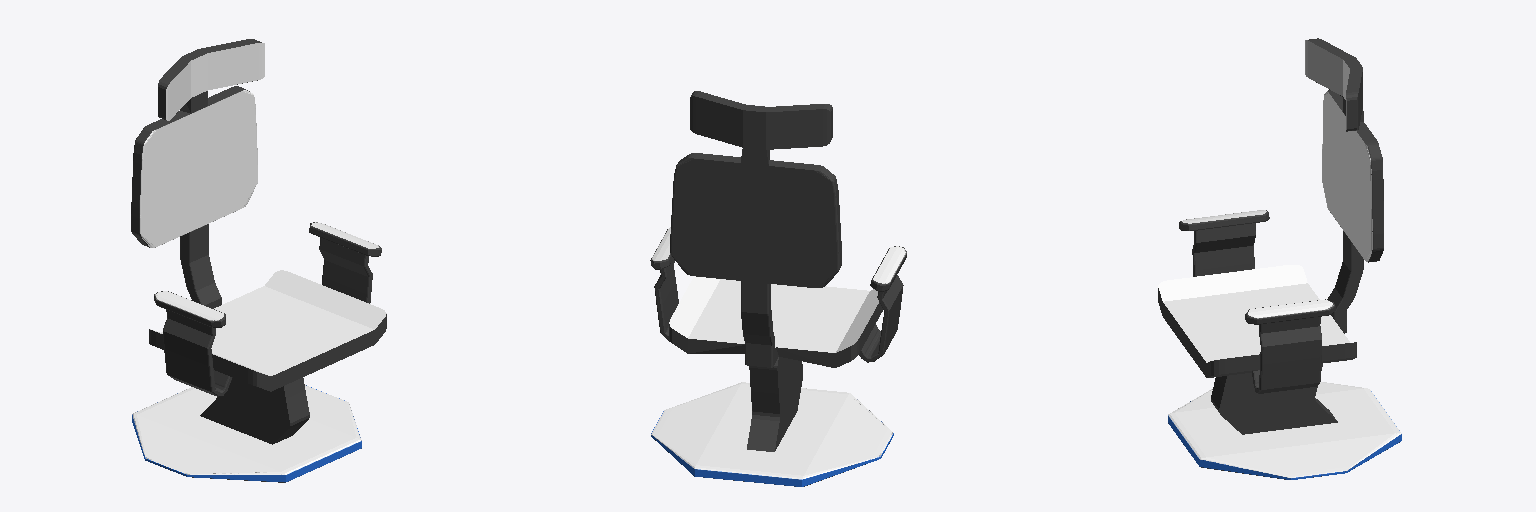
3 renders of one model, left to right at view 1: azimuth 30°, elevation 25°; view 2: azimuth 150°, elevation 25°; view 3: azimuth 270°, elevation 25°, orthographic.
Parts seen in each view (by area): view 1: Krzeslo.NR1.001_Cube.042; view 2: Krzeslo.NR1.001_Cube.042; view 3: Krzeslo.NR1.001_Cube.042.
Boxes of the visible parts, box(x1,y1,x2,y2) form: Krzeslo.NR1.001_Cube.042: box(131, 39, 386, 482); Krzeslo.NR1.001_Cube.042: box(650, 91, 906, 486); Krzeslo.NR1.001_Cube.042: box(1158, 38, 1401, 479).
Size of the model in its own units: 3.41 by 5.24 by 3.21.
1 materials, 1 textured.